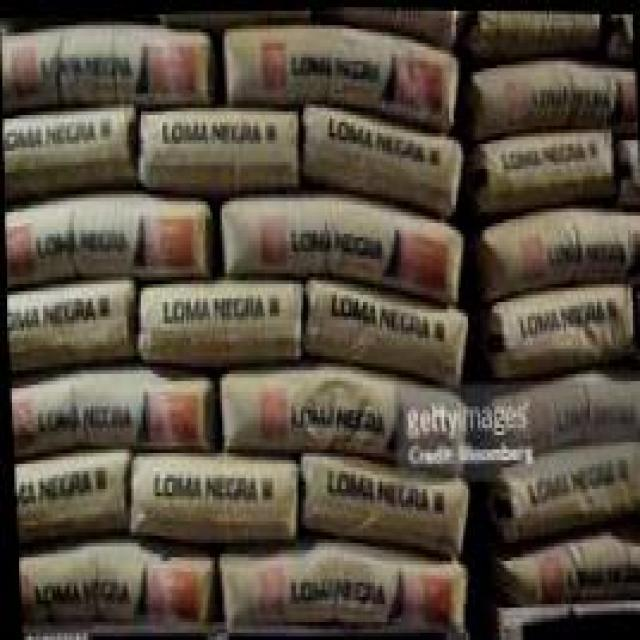gunny_bag: (229, 203, 451, 294), (233, 27, 450, 115), (225, 385, 455, 458), (4, 206, 204, 283), (308, 449, 458, 551), (233, 557, 458, 625), (4, 33, 201, 110), (13, 381, 195, 459), (488, 277, 629, 376), (508, 436, 640, 541), (490, 368, 640, 460), (314, 290, 457, 383), (6, 281, 129, 370), (492, 205, 630, 283), (141, 284, 290, 356), (317, 113, 454, 189), (143, 462, 285, 534), (505, 543, 640, 614), (474, 58, 615, 123), (151, 112, 294, 175), (485, 128, 617, 196), (2, 111, 125, 175)
